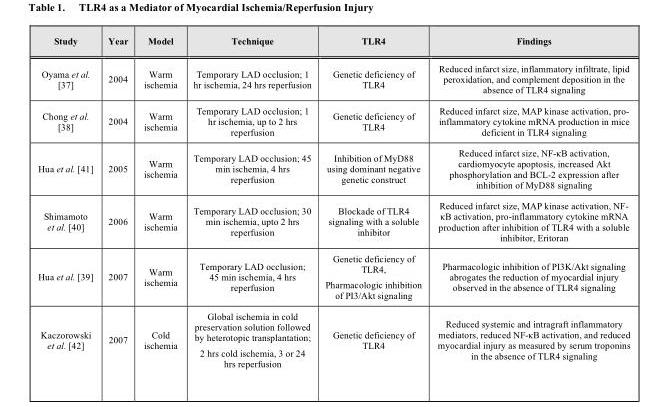table: (37, 37, 629, 368)
table column: (428, 37, 629, 368), (184, 37, 317, 368), (317, 37, 428, 368), (37, 37, 99, 368), (135, 37, 184, 368), (99, 37, 135, 368)
table column header: (37, 37, 629, 55)
table row: (37, 306, 629, 368), (37, 248, 629, 306), (37, 142, 629, 195), (37, 195, 629, 248), (37, 55, 629, 100), (37, 100, 629, 142), (37, 37, 629, 55)
